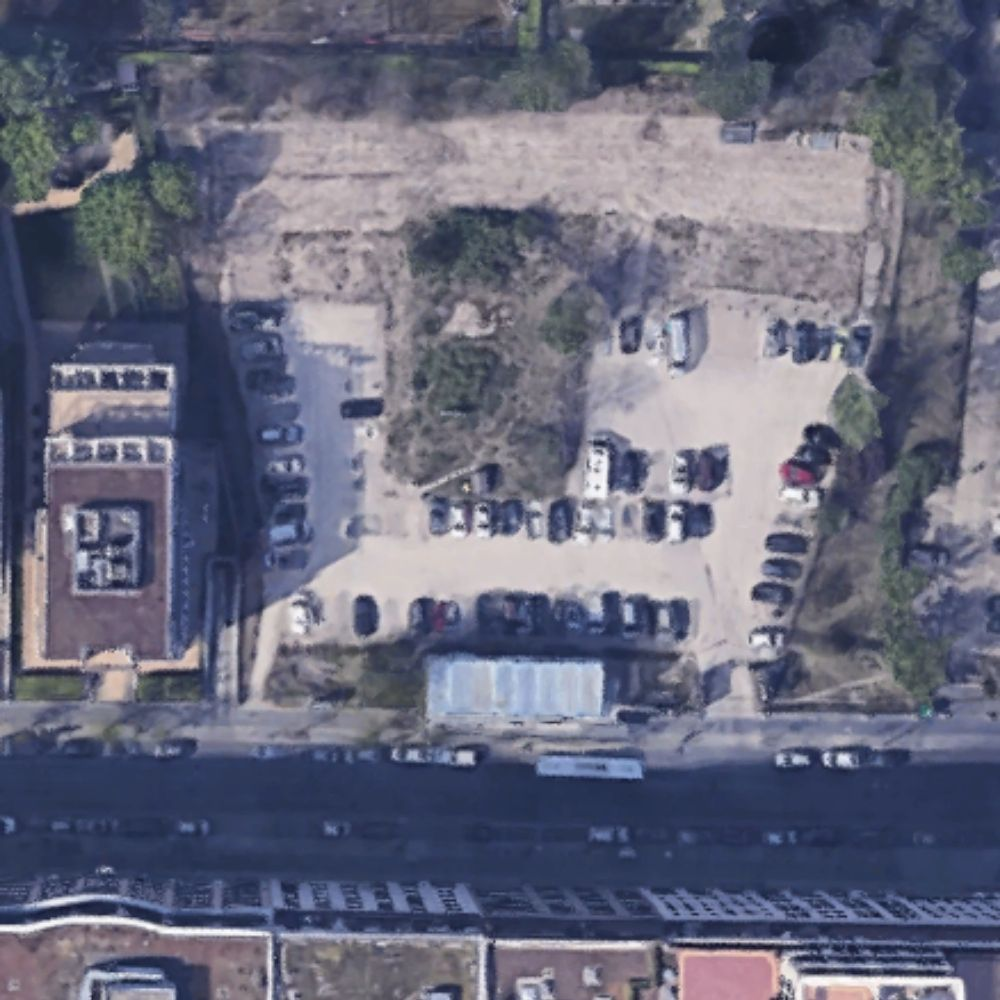parking: (220, 300, 860, 660)
